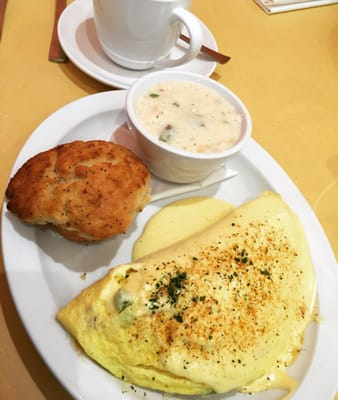sushi: (124, 69, 253, 185)
